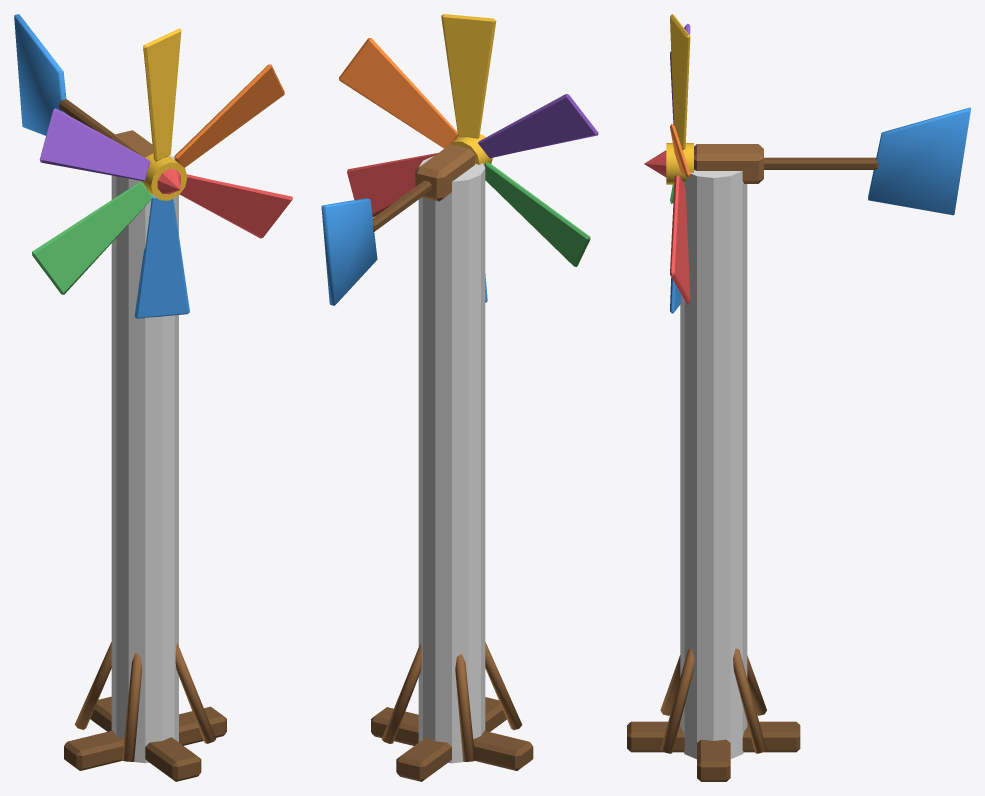
File: cata-vento.glb
3 views of the same model, side by side, from view 1: azimuth 30°, elevation 25°; view 2: azimuth 150°, elevation 25°; view 3: azimuth 270°, elevation 25° (orthographic).
Visible parts, largest first — view 1: col-cil-poste-cata-vento-1, helice, poste; view 2: col-cil-poste-cata-vento-1, helice, poste; view 3: col-cil-poste-cata-vento-1, poste, helice.
Boxes of the visible parts, x1=… form: col-cil-poste-cata-vento-1: x1=111, y1=155, x2=178, y2=763; helice: x1=32, y1=28, x2=292, y2=318; poste: x1=14, y1=14, x2=226, y2=781; col-cil-poste-cata-vento-1: x1=418, y1=156, x2=485, y2=763; helice: x1=339, y1=14, x2=598, y2=302; poste: x1=321, y1=144, x2=533, y2=781; col-cil-poste-cata-vento-1: x1=680, y1=170, x2=747, y2=759; poste: x1=627, y1=107, x2=970, y2=781; helice: x1=644, y1=14, x2=693, y2=313.
Bounding box in the file's own units: 1.04 × 2.85 × 1.23.
